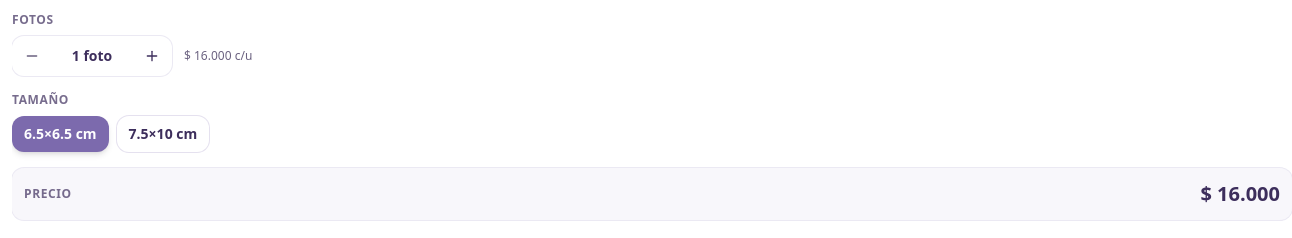
Scenario: VariantSelector — stepper de cantidad › el stepper mapea +/− a la variante con esa cantidad (c/u y deep-link en sync)
Click the button named "Aumentar unidades": [152, 56] box [132,36,172,76]
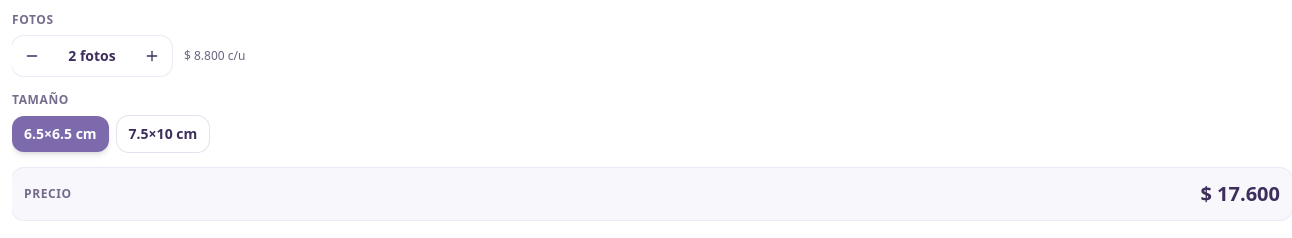
Check: the text "2 fotos" is shown, box [68,46,116,65]
Click the button named "Disminuir unidades": [32, 56] box [12,36,52,76]
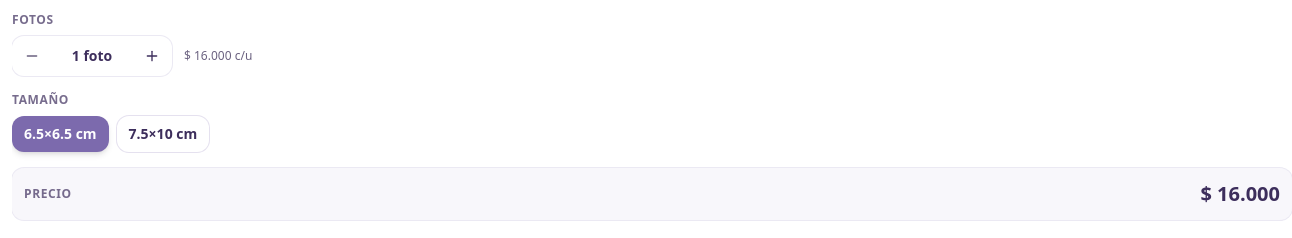
Check: the text "1 foto" is shown, box [72,46,112,65]
